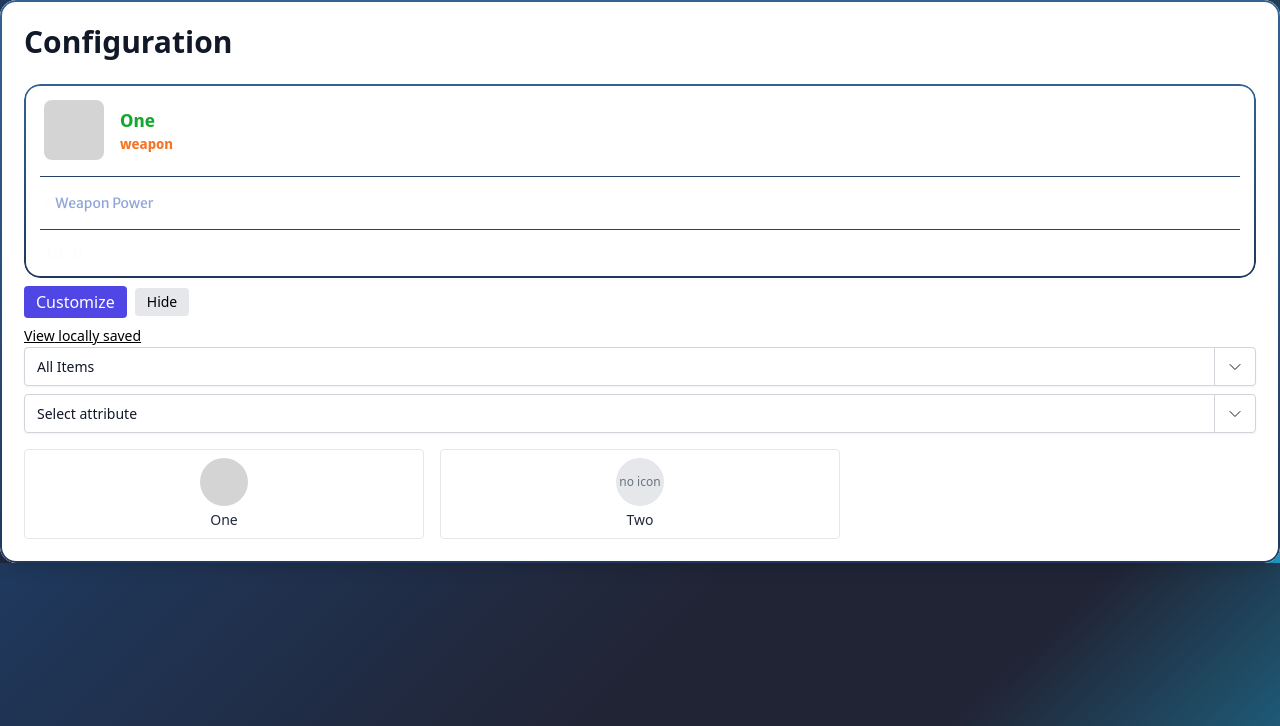
Test case: ItemGallery › toggles edit mode
The image size is (1280, 726).
Click the button "Customize". click: (75, 302)
box: top-left (24, 286), bottom-right (127, 318)
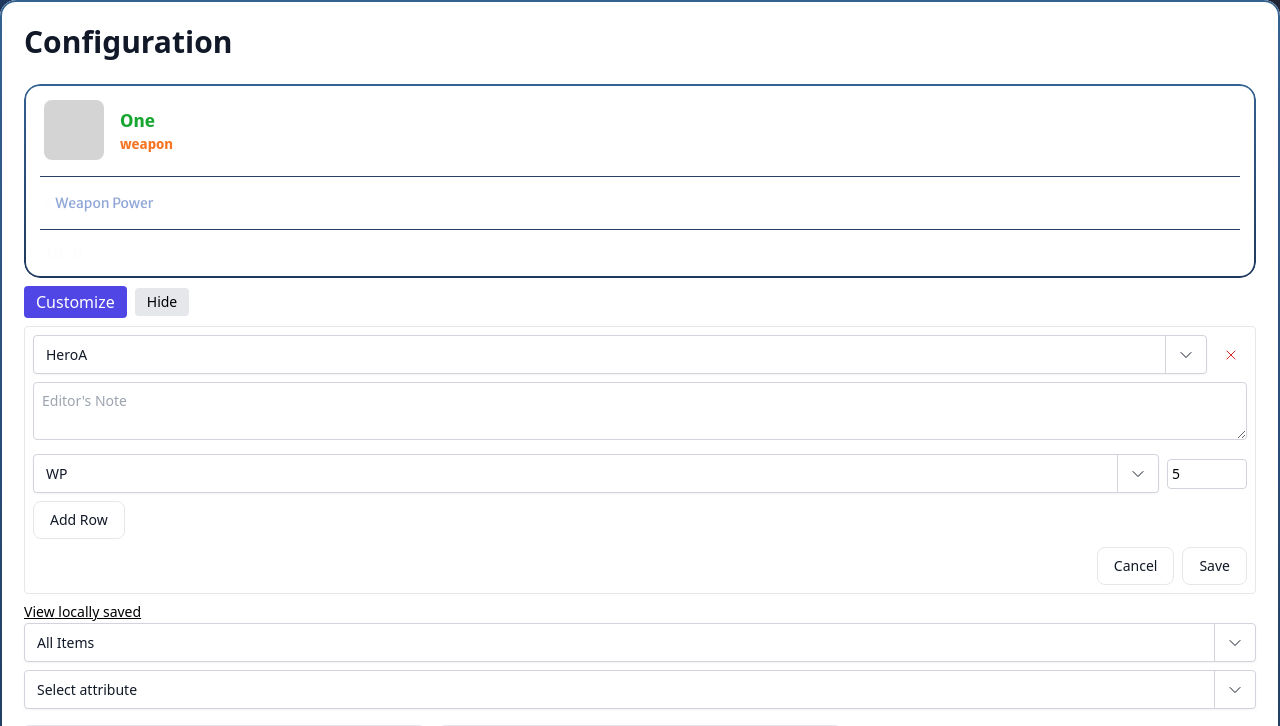
Check: the button "Add Row" is shown, box top-left (33, 501), bottom-right (125, 539)
